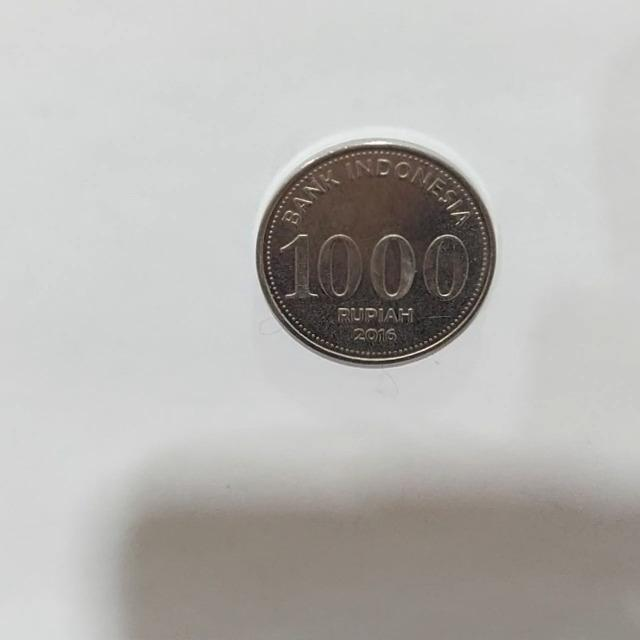Rp100: (254, 133, 497, 369)
